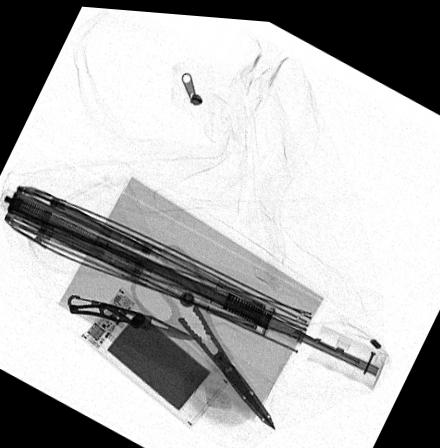Knife: (68, 293, 201, 336)
Powerbank: (76, 284, 231, 425)
Scissors: (128, 241, 275, 429)
